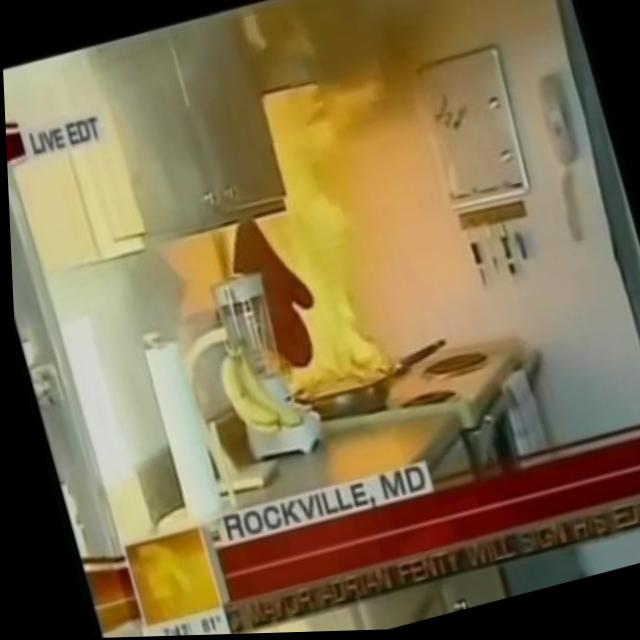fire: (211, 77, 410, 411)
